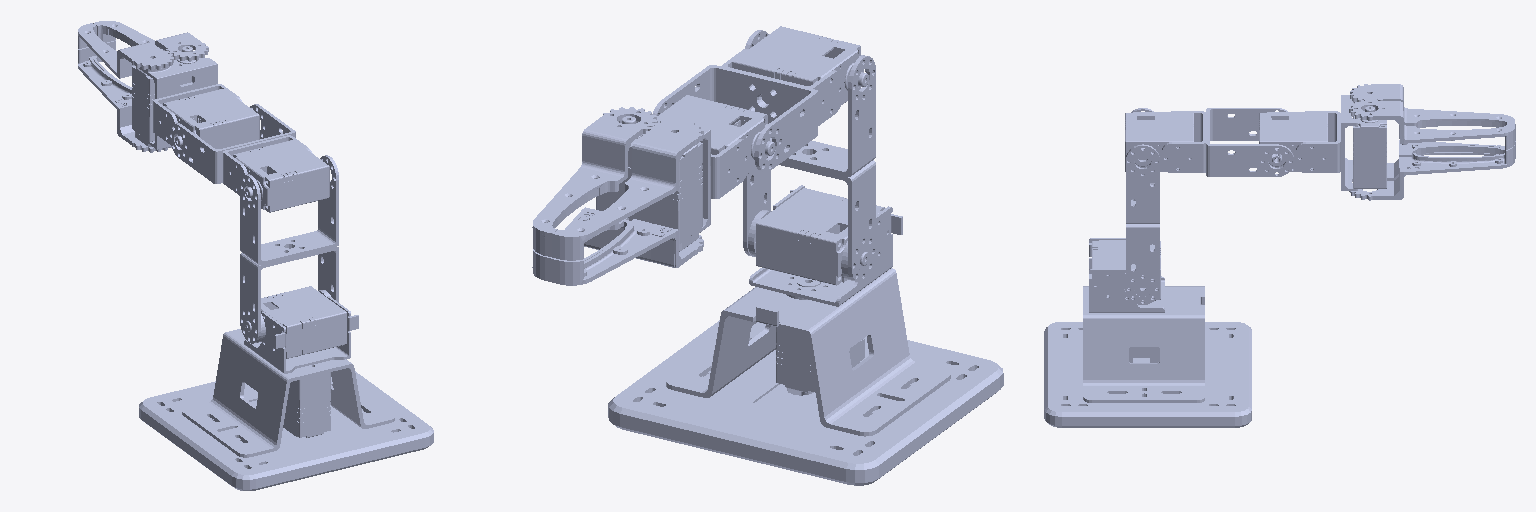
robot.urdf — test_arm_1018_new_new:
<?xml version="1.0" encoding="utf-8"?>
<!-- This URDF was automatically created by SolidWorks to URDF Exporter! Originally created by [author] ([email redacted]) 
     Commit Version: 1.6.0-4-g7f85cfe  Build Version: 1.6.7995.38578
     For more information, please see http://wiki.ros.org/sw_urdf_exporter -->
<robot
  name="test_arm_1018_new_new">
  <link
    name="base_link">
    <visual>
      <origin
        xyz="0 0 0"
        rpy="0 0 0" />
      <geometry>
        <mesh
          filename="package://test_urdf/meshes/visual/base_link.STL" />
      </geometry>
      <material
        name="">
        <color
          rgba="0.792156862745098 0.819607843137255 0.933333333333333 1" />
      </material>
    </visual>
    <collision>
      <origin
        xyz="0 0 0"
        rpy="0 0 0" />
      <geometry>
        <mesh
          filename="package://test_urdf/meshes/visual/base_link.STL" />
      </geometry>
    </collision>
  </link>
  <link
    name="link0">
    <visual>
      <origin
        xyz="0 0 0"
        rpy="0 0 0" />
      <geometry>
        <mesh
          filename="package://test_urdf/meshes/visual/link0.STL" />
      </geometry>
      <material
        name="">
        <color
          rgba="0.792156862745098 0.819607843137255 0.933333333333333 1" />
      </material>
    </visual>
    <collision>
      <origin
        xyz="0 0 0"
        rpy="0 0 0" />
      <geometry>
        <mesh
          filename="package://test_urdf/meshes/visual/link0.STL" />
      </geometry>
    </collision>
  </link>
  <joint
    name="joint0"
    type="revolute">
    <origin
      xyz="0 -0.0025385993980081 0.0537499999998391"
      rpy="0 0 0" />
    <parent
      link="base_link" />
    <child
      link="link0" />
    <axis
      xyz="0 0 -1" />
    <limit
      lower="-2"
      upper="2"
      effort="28.0"
      velocity="10.0" />
  </joint>
  <link
    name="link1">
    <visual>
      <origin
        xyz="0 0 0"
        rpy="0 0 0" />
      <geometry>
        <mesh
          filename="package://test_urdf/meshes/visual/link1.STL" />
      </geometry>
      <material
        name="">
        <color
          rgba="0.792156862745098 0.819607843137255 0.933333333333333 1" />
      </material>
    </visual>
    <collision>
      <origin
        xyz="0 0 0"
        rpy="0 0 0" />
      <geometry>
        <mesh
          filename="package://test_urdf/meshes/visual/link1.STL" />
      </geometry>
    </collision>
  </link>
  <joint
    name="joint1"
    type="revolute">
    <origin
      xyz="0.0257499999999922 -0.000816386290255001 0.0178942036737967"
      rpy="-1.57079632679482 0 1.5707963267949" />
    <parent
      link="link0" />
    <child
      link="link1" />
    <axis
      xyz="0 0 1" />
    <limit
      lower="-0.9"
      upper="1.5"
      effort="28.0"
      velocity="10.0" />
  </joint>
  <link
    name="link2">
    <visual>
      <origin
        xyz="0 0 0"
        rpy="0 0 0" />
      <geometry>
        <mesh
          filename="package://test_urdf/meshes/visual/link2.STL" />
      </geometry>
      <material
        name="">
        <color
          rgba="0.792156862745098 0.819607843137255 0.933333333333333 1" />
      </material>
    </visual>
    <collision>
      <origin
        xyz="0 0 0"
        rpy="0 0 0" />
      <geometry>
        <mesh
          filename="package://test_urdf/meshes/visual/link2.STL" />
      </geometry>
    </collision>
  </link>
  <joint
    name="joint2"
    type="revolute">
    <origin
      xyz="0 -0.0813988613306236 0.00495000000000783"
      rpy="0 0 0" />
    <parent
      link="link1" />
    <child
      link="link2" />
    <axis
      xyz="0 0 1" />
    <limit
      lower="-3.14"
      upper="0.9"
      effort="28.0"
      velocity="10.0" />
  </joint>
  <link
    name="link3">
    <visual>
      <origin
        xyz="0 0 0"
        rpy="0 0 0" />
      <geometry>
        <mesh
          filename="package://test_urdf/meshes/visual/link3.STL" />
      </geometry>
      <material
        name="">
        <color
          rgba="0.792156862745098 0.819607843137255 0.933333333333333 1" />
      </material>
    </visual>
    <collision>
      <origin
        xyz="0 0 0"
        rpy="0 0 0" />
      <geometry>
        <mesh
          filename="package://test_urdf/meshes/visual/link3.STL" />
      </geometry>
    </collision>
  </link>
  <joint
    name="joint3"
    type="revolute">
    <origin
      xyz="0.077374 0 0"
      rpy="0 0 0" />
    <parent
      link="link2" />
    <child
      link="link3" />
    <axis
      xyz="0 0 1" />
    <limit
      lower="-2.0"
      upper="1.5"
      effort="28.0"
      velocity="10.0" />
  </joint>
  <link
    name="link4_end">
    <visual>
      <origin
        xyz="0 0 0"
        rpy="0 0 0" />
      <geometry>
        <mesh
          filename="package://test_urdf/meshes/visual/link4_end.STL" />
      </geometry>
      <material
        name="">
        <color
          rgba="0.792156862745098 0.819607843137255 0.933333333333333 1" />
      </material>
    </visual>
    <collision>
      <origin
        xyz="0 0 0"
        rpy="0 0 0" />
      <geometry>
        <mesh
          filename="package://test_urdf/meshes/visual/link4_end.STL" />
      </geometry>
    </collision>
  </link>
  <joint
    name="jointe_end"
    type="fixed">
    <origin
      xyz="0.063675 0.00335 0.019975"
      rpy="0 0 -3.1416" />
    <parent
      link="link3" />
    <child
      link="link4_end" />
    <axis
      xyz="0 0 0" />
  </joint>
  <link
    name="link4_0">
    <visual>
      <origin
        xyz="0 0 0"
        rpy="0 0 0" />
      <geometry>
        <mesh
          filename="package://test_urdf/meshes/visual/link4_0.STL" />
      </geometry>
      <material
        name="">
        <color
          rgba="0.792156862745098 0.819607843137255 0.933333333333333 1" />
      </material>
    </visual>
    <collision>
      <origin
        xyz="0 0 0"
        rpy="0 0 0" />
      <geometry>
        <mesh
          filename="package://test_urdf/meshes/visual/link4_0.STL" />
      </geometry>
    </collision>
  </link>
  <joint
    name="joint4_0"
    type="revolute">
    <origin
      xyz="0.01 0.02995 -0.009675"
      rpy="1.5708 -0.01083 3.1416" />
    <parent
      link="link4_end" />
    <child
      link="link4_0" />
    <axis
      xyz="0 0 -1" />
    <limit
      lower="0.0"
      upper="2.0"
      effort="28.0"
      velocity="10.0" />
  </joint>
  <link
    name="link4_1">
    <visual>
      <origin
        xyz="0 0 0"
        rpy="0 0 0" />
      <geometry>
        <mesh
          filename="package://test_urdf/meshes/visual/link4_1.STL" />
      </geometry>
      <material
        name="">
        <color
          rgba="0.792156862745098 0.819607843137255 0.933333333333333 1" />
      </material>
    </visual>
    <collision>
      <origin
        xyz="0 0 0"
        rpy="0 0 0" />
      <geometry>
        <mesh
          filename="package://test_urdf/meshes/visual/link4_1.STL" />
      </geometry>
    </collision>
  </link>
  <joint
    name="joint4_1"
    type="revolute">
    <origin
      xyz="0.01 0.02965 0.012325"
      rpy="1.5708 -0.010399 -3.1416" />
    <parent
      link="link4_end" />
    <child
      link="link4_1" />
    <axis
      xyz="0 0 -1" />
    <limit
      lower="-2.0"
      upper="0.0"
      effort="28.0"
      velocity="10.0" />
  </joint>
</robot>

--- Render facts (derived) ---
The picture shows the robot from 3 angles, left to right: view 1: azimuth 30°, elevation 25°; view 2: azimuth 150°, elevation 25°; view 3: azimuth 270°, elevation 25°; orthographic projection.
Robot: test_arm_1018_new_new — 8 links, 7 joints (6 revolute, 1 fixed); root link base_link; default pose: every joint at zero.
Links seen in each view (by area): view 1: base_link, link3, link2, link1, link0, link4_1, link4_0; view 2: base_link, link2, link0, link4_1, link1, link3, link4_0; view 3: base_link, link2, link3, link1, link4_0, link4_1, link0.
Boxes of the visible links, left/top/right/bottom form: base_link: left=139, top=329, right=433, bottom=490; link3: left=132, top=46, right=259, bottom=149; link2: left=170, top=104, right=329, bottom=212; link1: left=240, top=155, right=338, bottom=343; link0: left=244, top=286, right=358, bottom=373; link4_1: left=78, top=23, right=173, bottom=152; link4_0: left=93, top=21, right=208, bottom=61; base_link: left=608, top=268, right=1003, bottom=485; link2: left=652, top=26, right=868, bottom=171; link0: left=749, top=185, right=902, bottom=306; link4_1: left=548, top=119, right=703, bottom=285; link1: left=743, top=30, right=875, bottom=281; link3: left=596, top=95, right=774, bottom=251; link4_0: left=532, top=107, right=657, bottom=281; base_link: left=1044, top=286, right=1251, bottom=427; link2: left=1125, top=108, right=1293, bottom=176; link3: left=1259, top=95, right=1386, bottom=190; link1: left=1126, top=108, right=1159, bottom=304; link4_0: left=1349, top=100, right=1514, bottom=200; link4_1: left=1350, top=84, right=1515, bottom=180; link0: left=1089, top=238, right=1164, bottom=312.
Size in the robot's own frame: 0.1276 by 0.2719 by 0.1798 metres.
8 mesh visuals loaded from 8 distinct referenced files (8 binary STL).